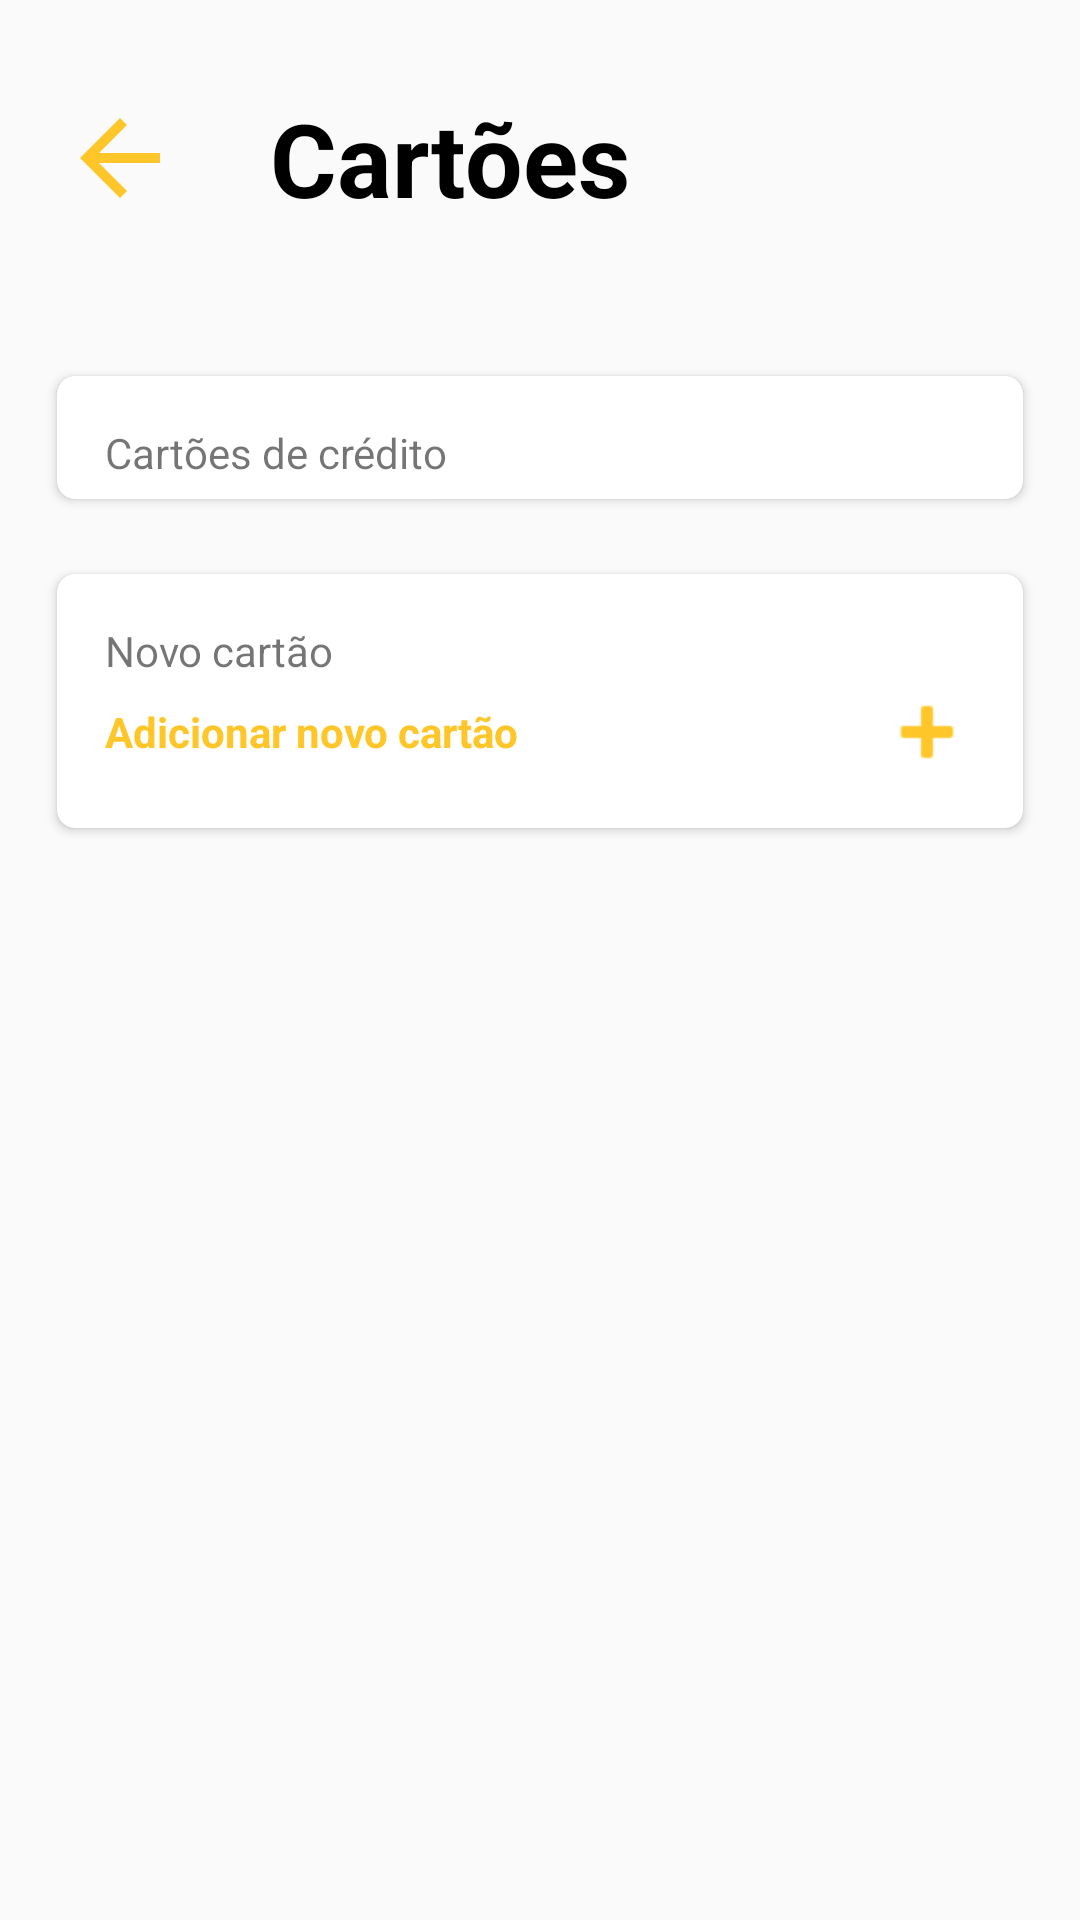

Screen size 1080x1920. Icon name, then its center in pixels as (x=x, y=y):
add: (x=927, y=732)
